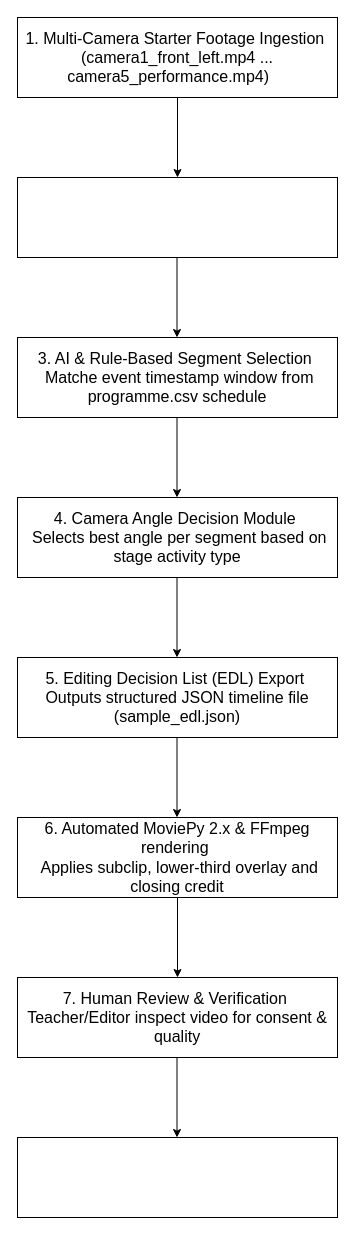
Some shapes in this 355 by 1235 pixel diagram are drawn without their labels. Here are the shapes that lost their labels. From the top down, the centre of each, then its label:
the point at 177,217: 2. Synchronisation Phase FFmpeg Offset Adjustment & Timestamp Calibration
the point at 177,1177: 8. Final Exported Video final_graduation_video.mp4
